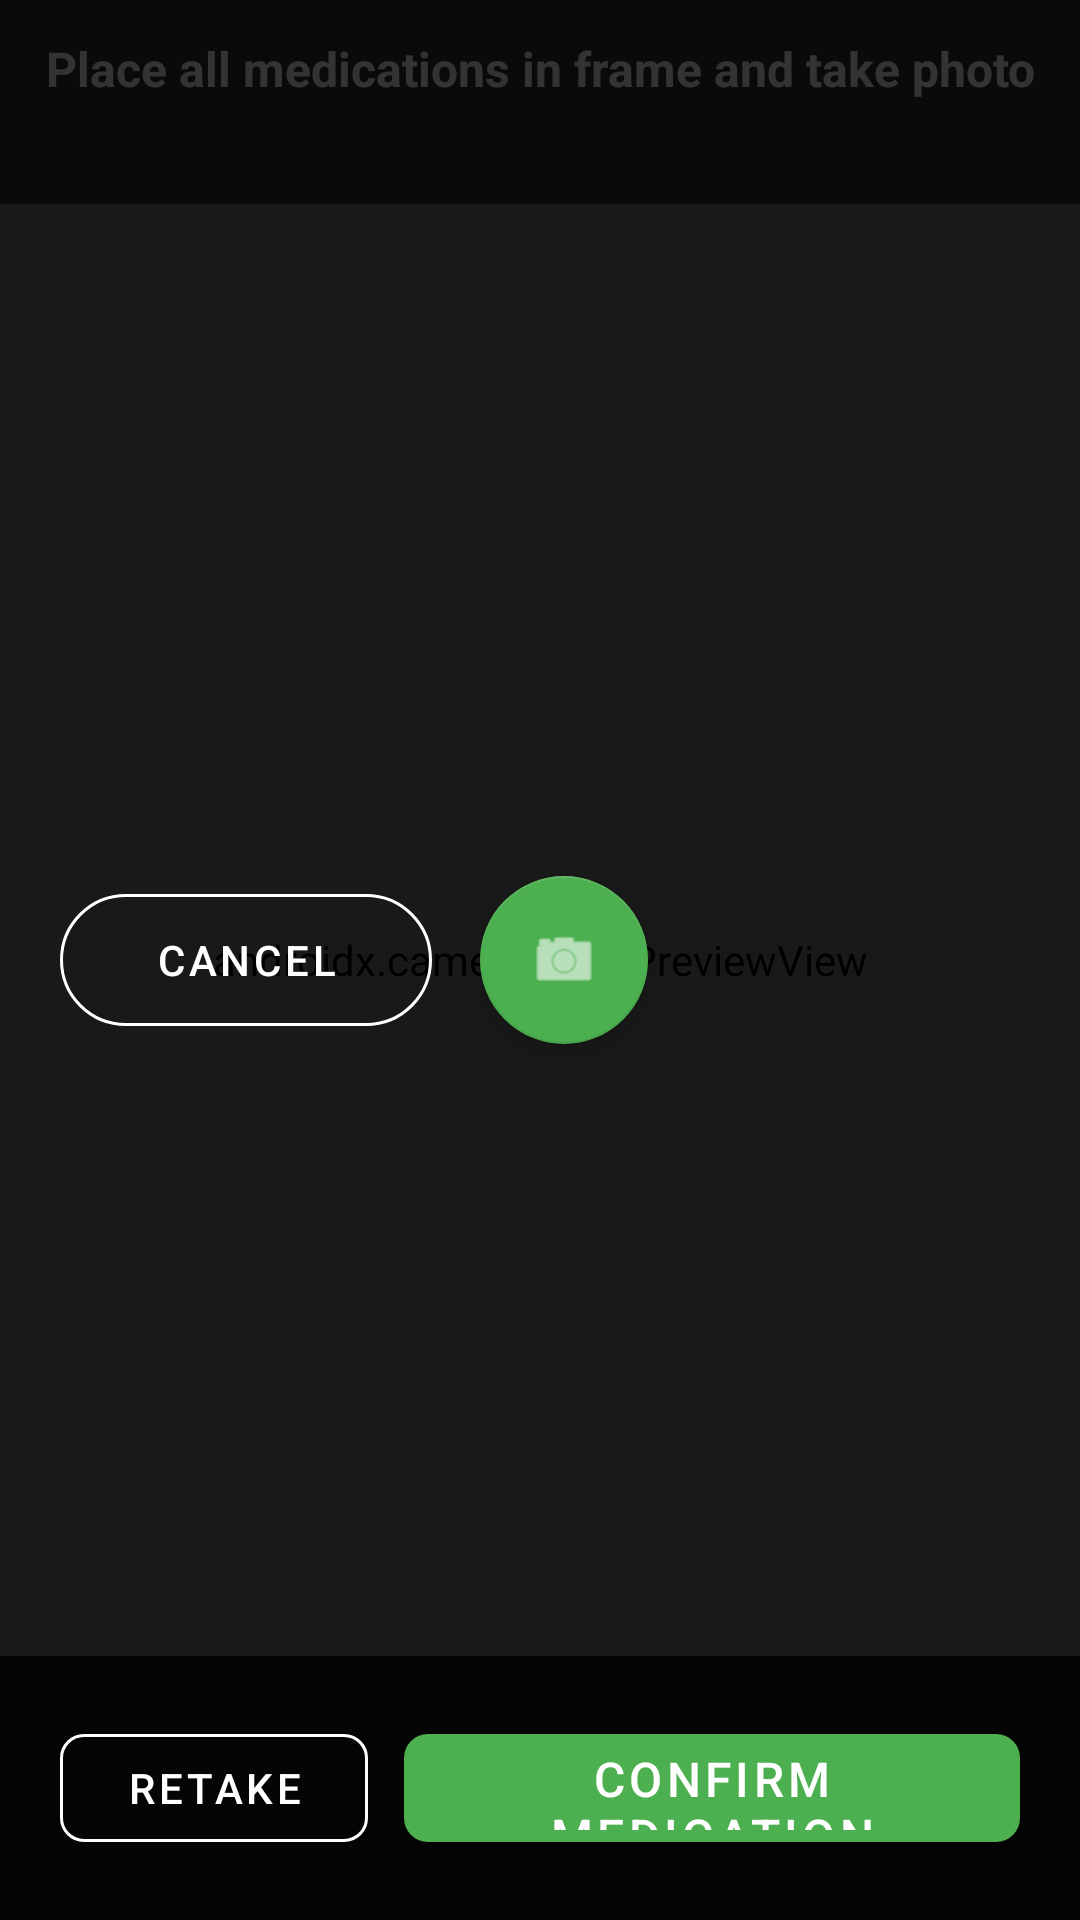

Where icons sit on this 1080 × 1920 app screen, as {"x1": x1, "y1": y1, "x2": x2, "y2": y2}:
Take photo: {"x1": 480, "y1": 876, "x2": 648, "y2": 1044}
